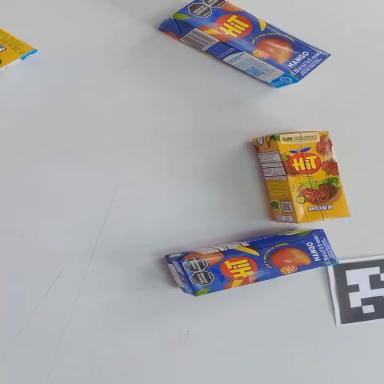HIT-MANGO: (158, 0, 330, 104), (166, 219, 338, 300)
HIT-MORA: (251, 119, 350, 235), (0, 28, 37, 83)
cara_F: (171, 0, 330, 88), (181, 228, 339, 297), (274, 121, 352, 230), (0, 18, 35, 69)
